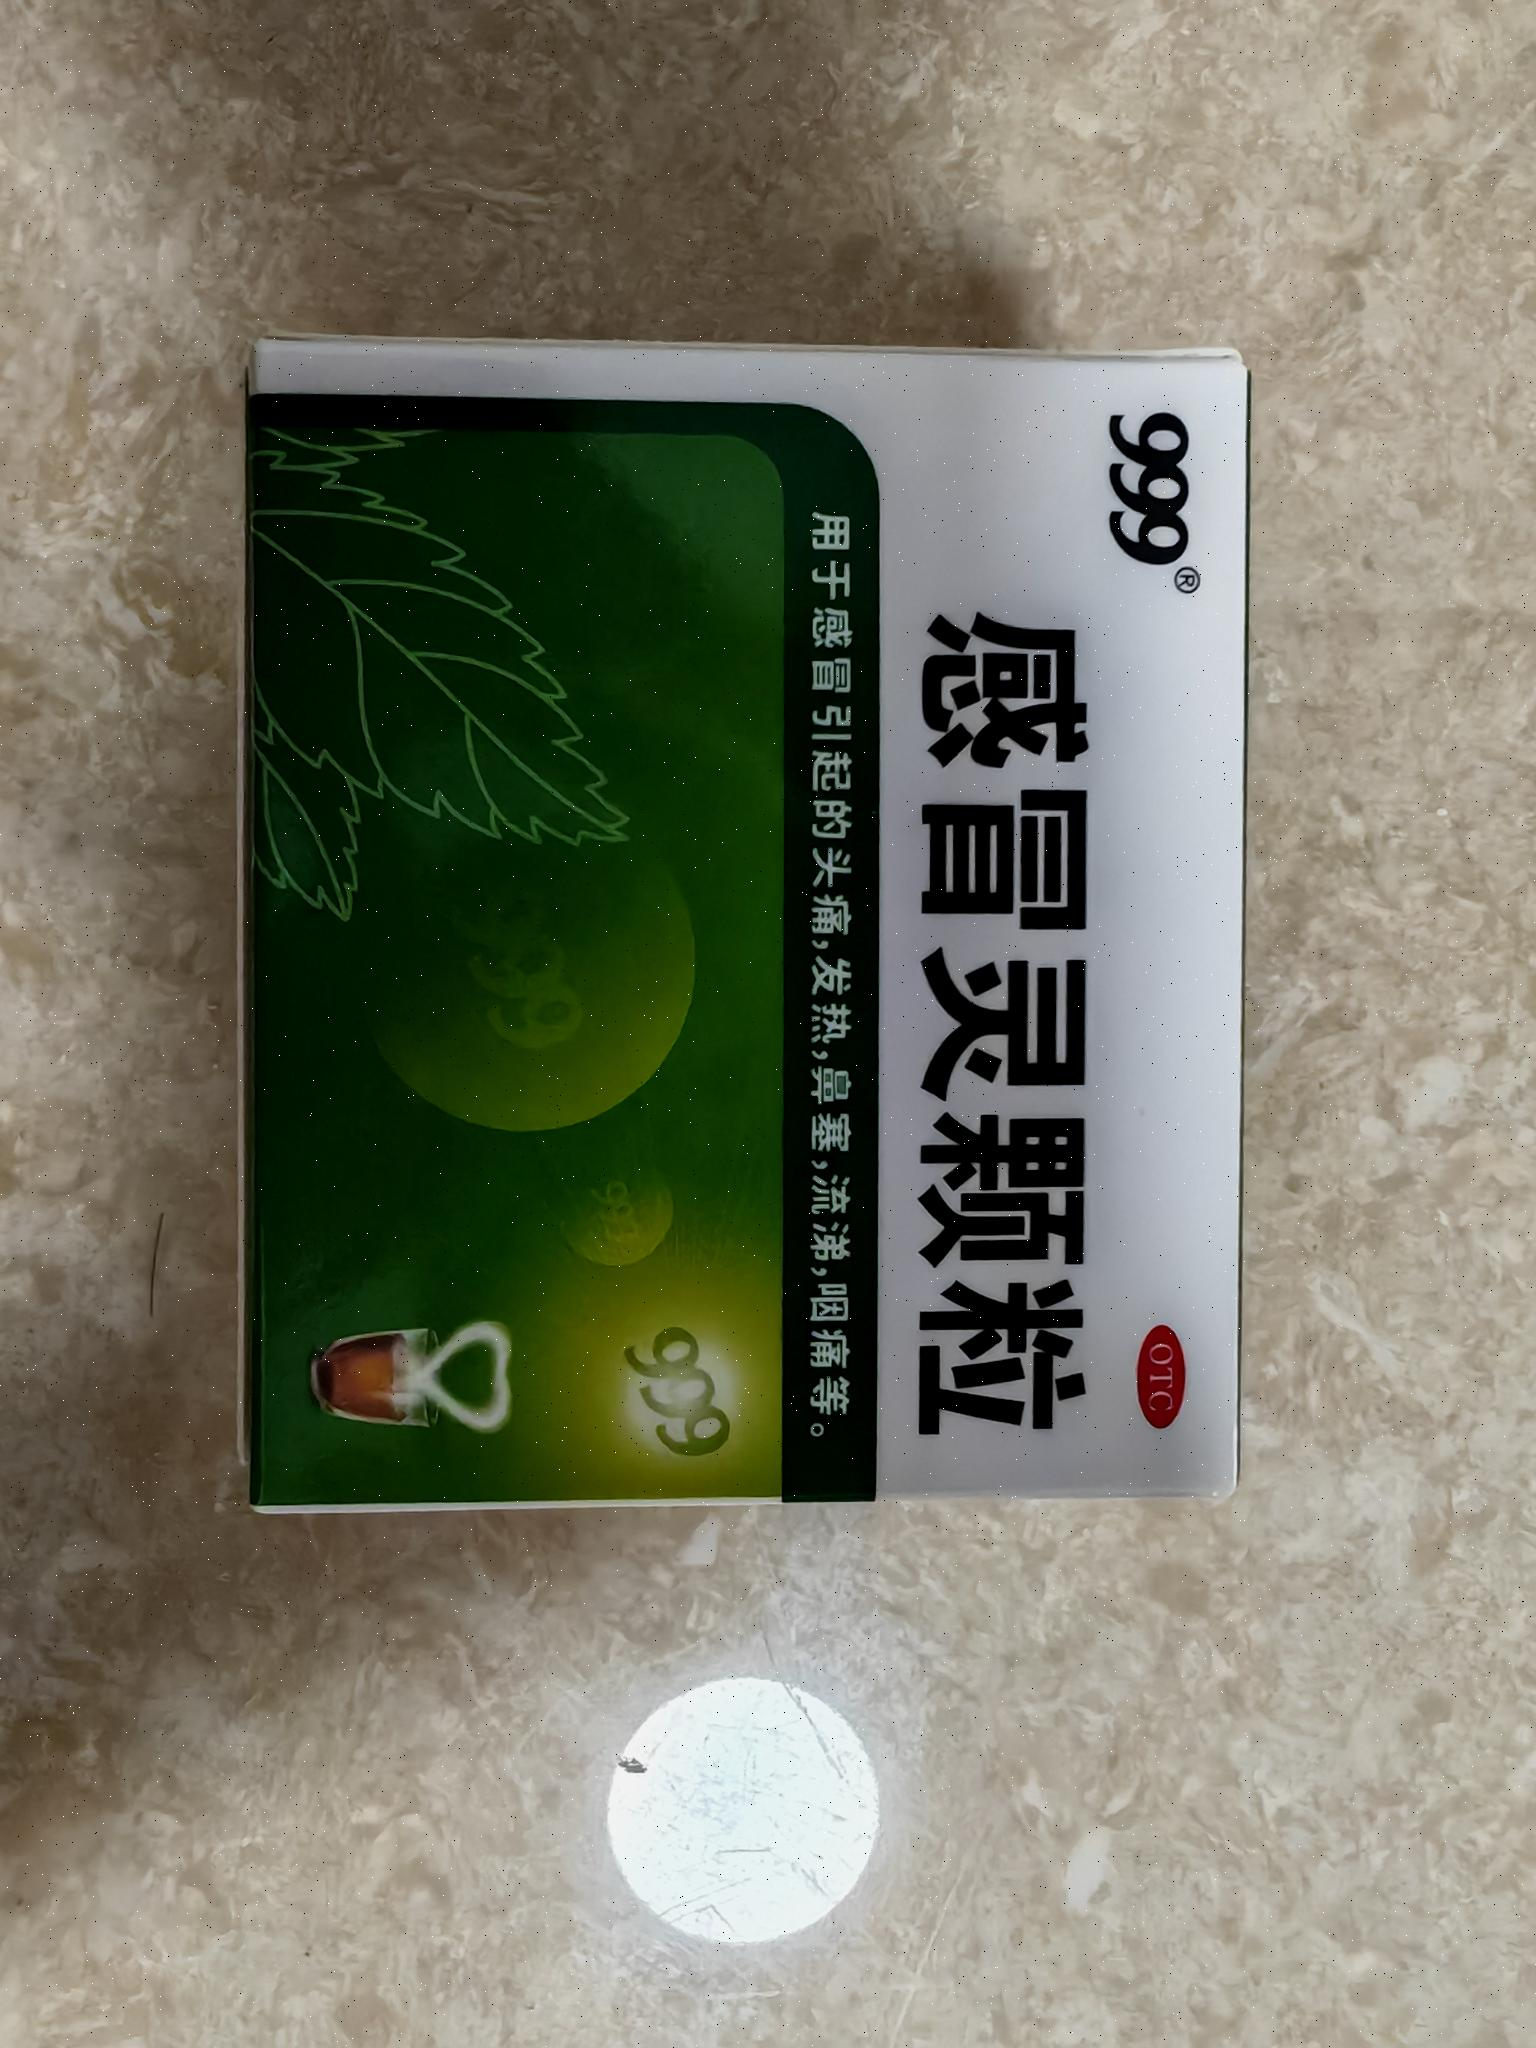Medicine3: (200, 305, 1270, 1537)
